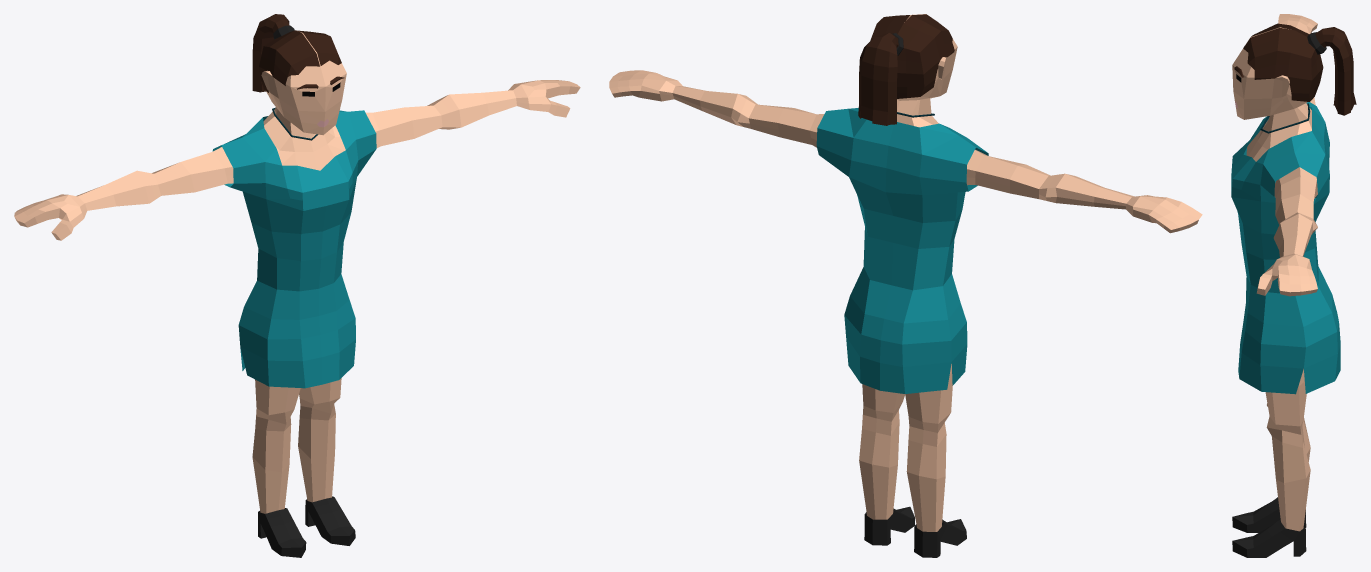
Rendered from NPC_W_Cian_Escenario2_Coleta.fbx.
The picture shows the model from 3 angles, left to right: view 1: azimuth 30°, elevation 25°; view 2: azimuth 150°, elevation 25°; view 3: azimuth 270°, elevation 25°; orthographic projection. The views are drawn at different scales.
Visible parts, largest first — view 1: Vestido; view 2: Vestido; view 3: Vestido.
Part boxes in pixels (x1,y1,x2,y2): Vestido: (14, 14, 580, 557); Vestido: (609, 14, 1202, 557); Vestido: (1231, 14, 1356, 557).
Size of the model in its own units: 215 by 185 by 40.91.
